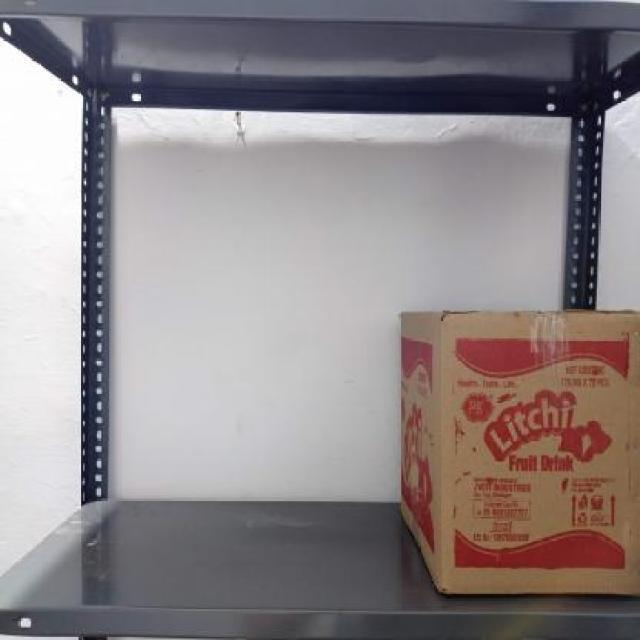box: (435, 314, 640, 594)
